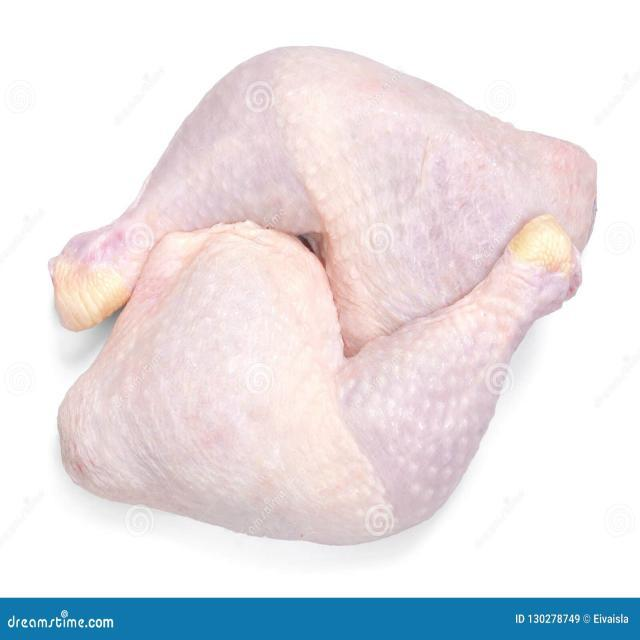quater: (85, 227, 586, 546), (54, 43, 594, 334)
